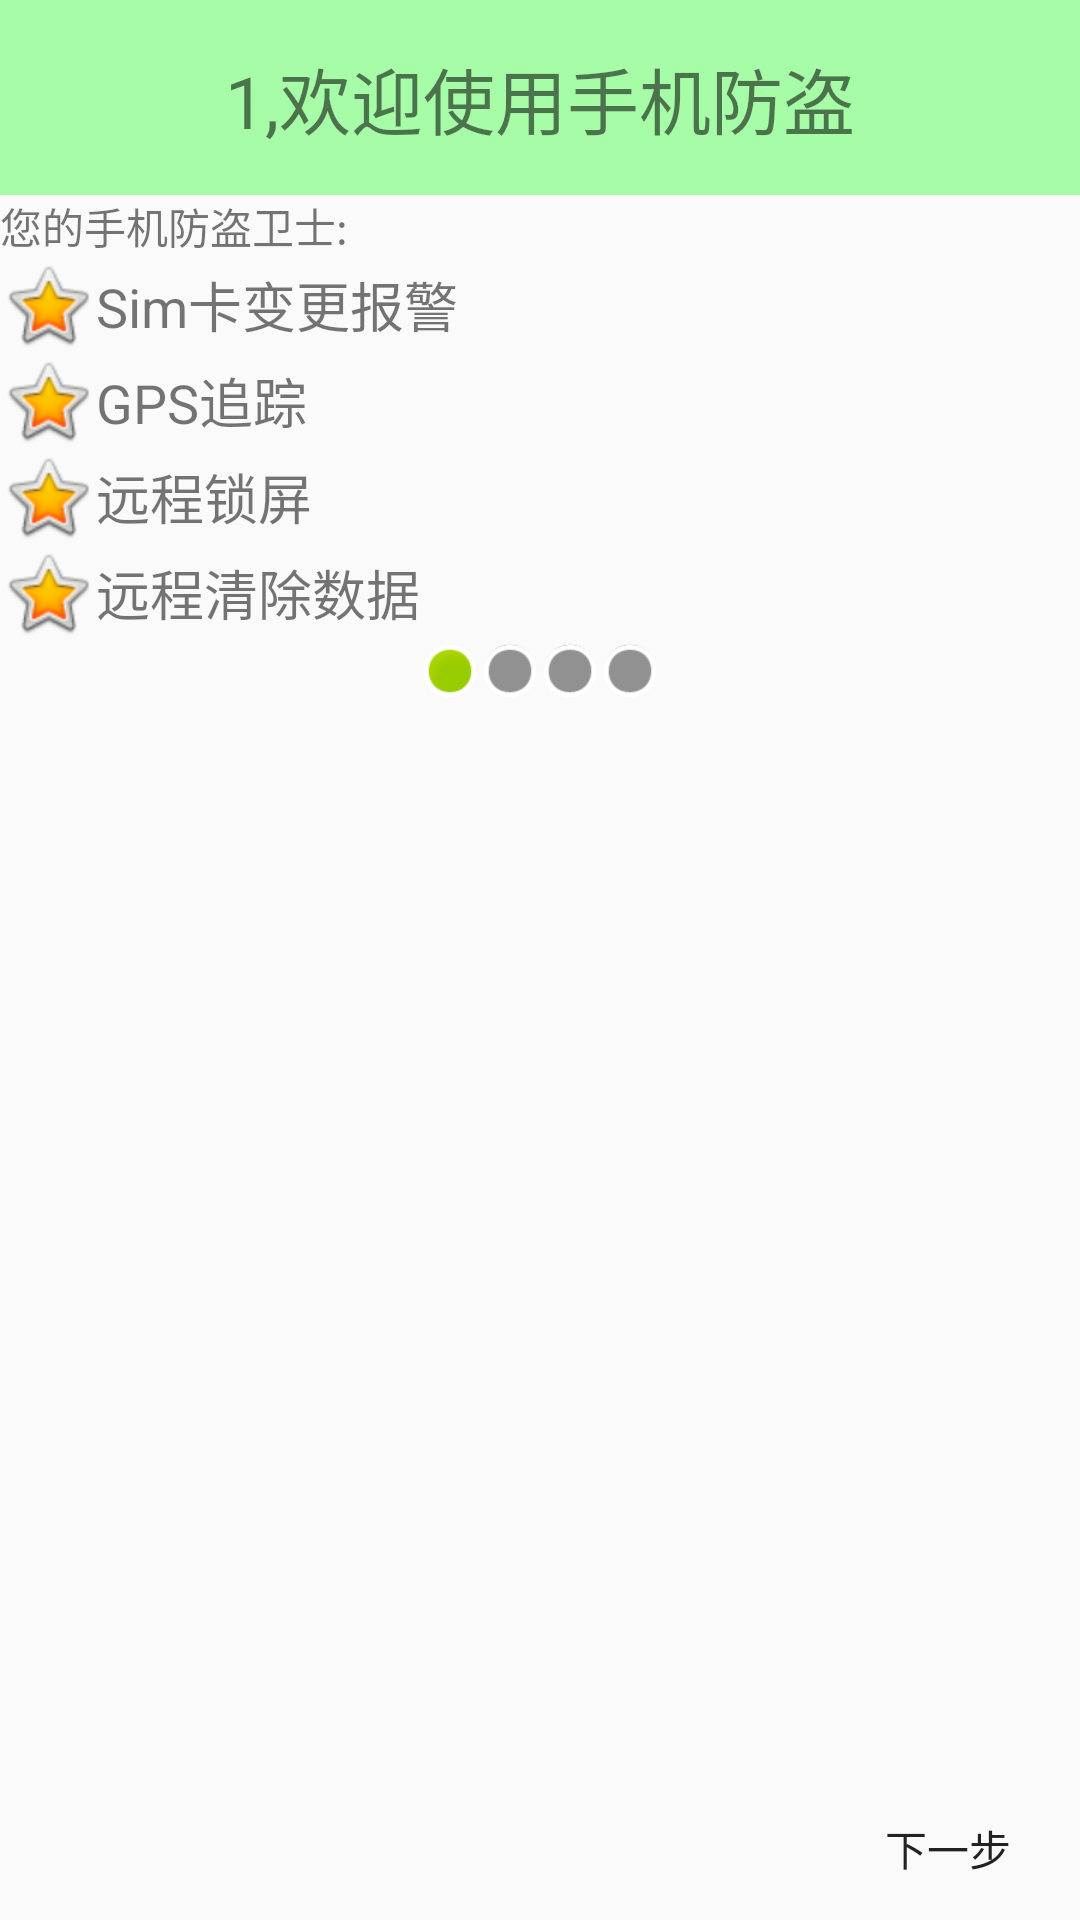

Where icons sit on this 1080 x 1920 app screen, as [x1, y1, x2, y2]:
presence invisible: [488, 645, 532, 693], [548, 645, 592, 693], [608, 645, 652, 693]
presence online: [428, 649, 472, 693]
